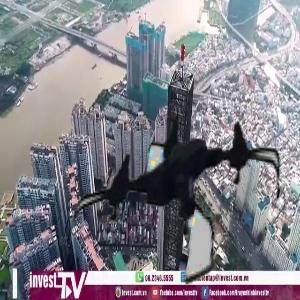drone: (79, 90, 282, 293)
